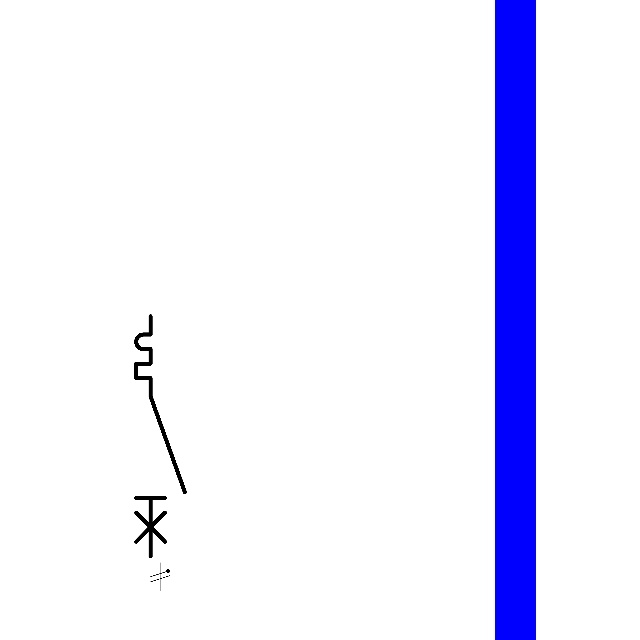interruptor_termomagnetico: (130, 310, 191, 562)
